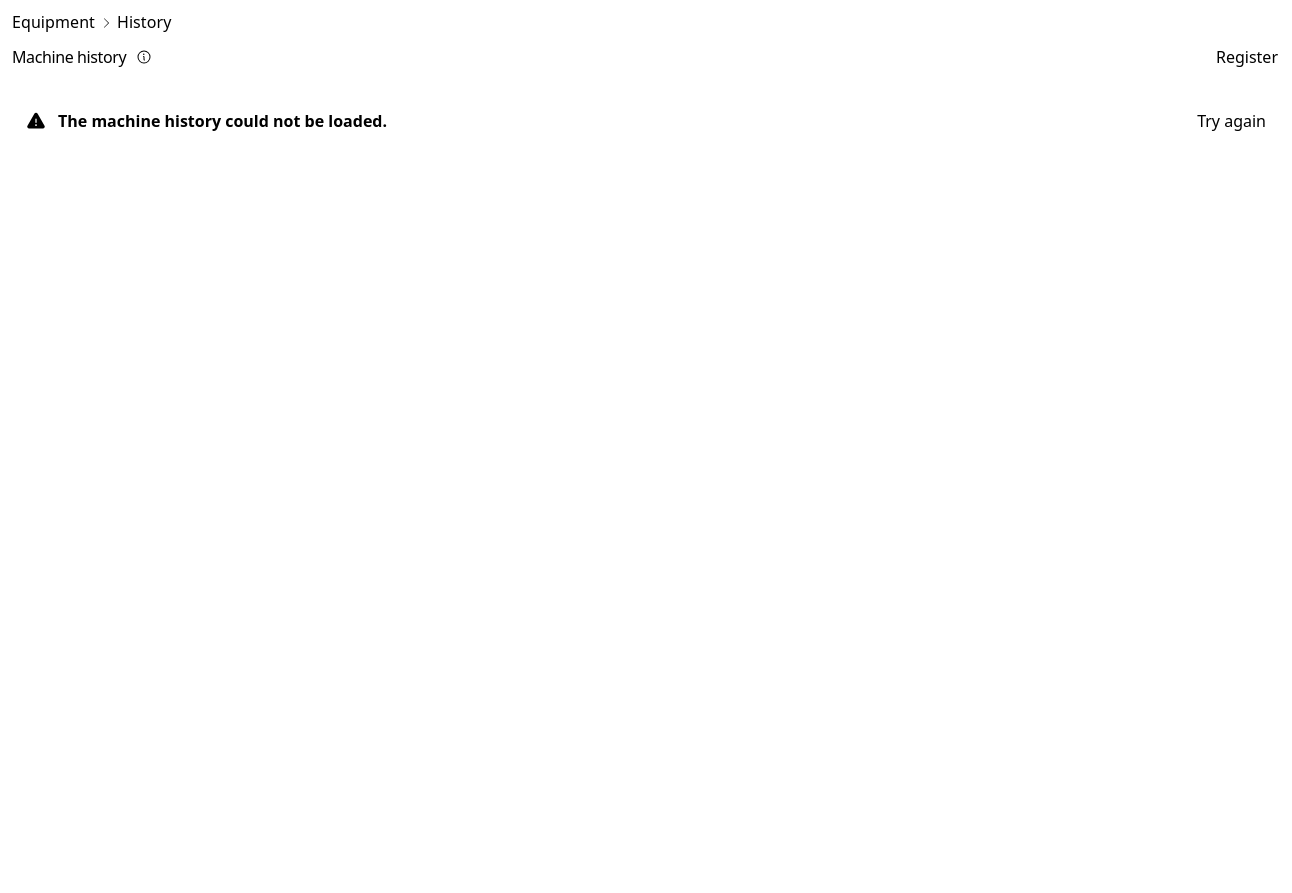
Test: MachineHistoryView › a failed load is an error with a retry, never zeros
The width and height of the screenshot is (1292, 893).
Expected: the text "The machine history could not be loaded." is shown, [58, 110, 387, 132]
Step 1. Click the button "Try again" → (1232, 121), box [1185, 105, 1278, 137]
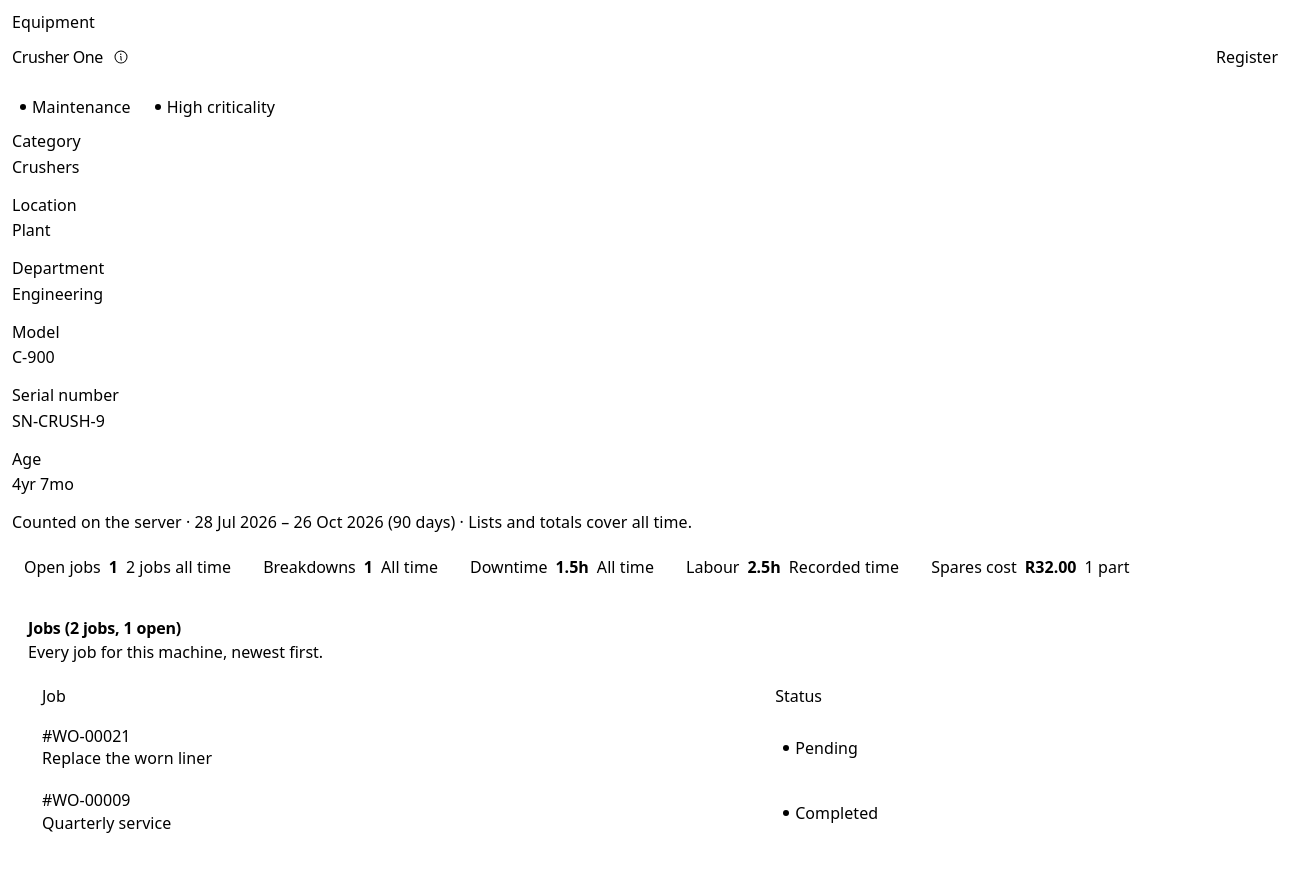
Now the heading "Crusher One" is shown, box [12, 47, 103, 67]
